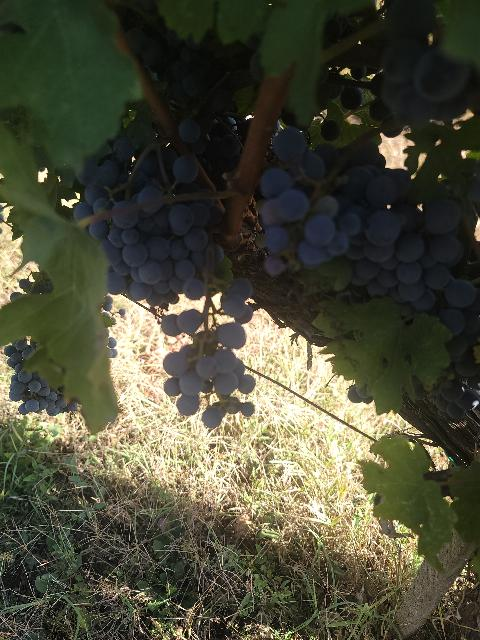grapes: (260, 126, 479, 355), (74, 136, 224, 308), (161, 279, 255, 429), (5, 340, 68, 416)
